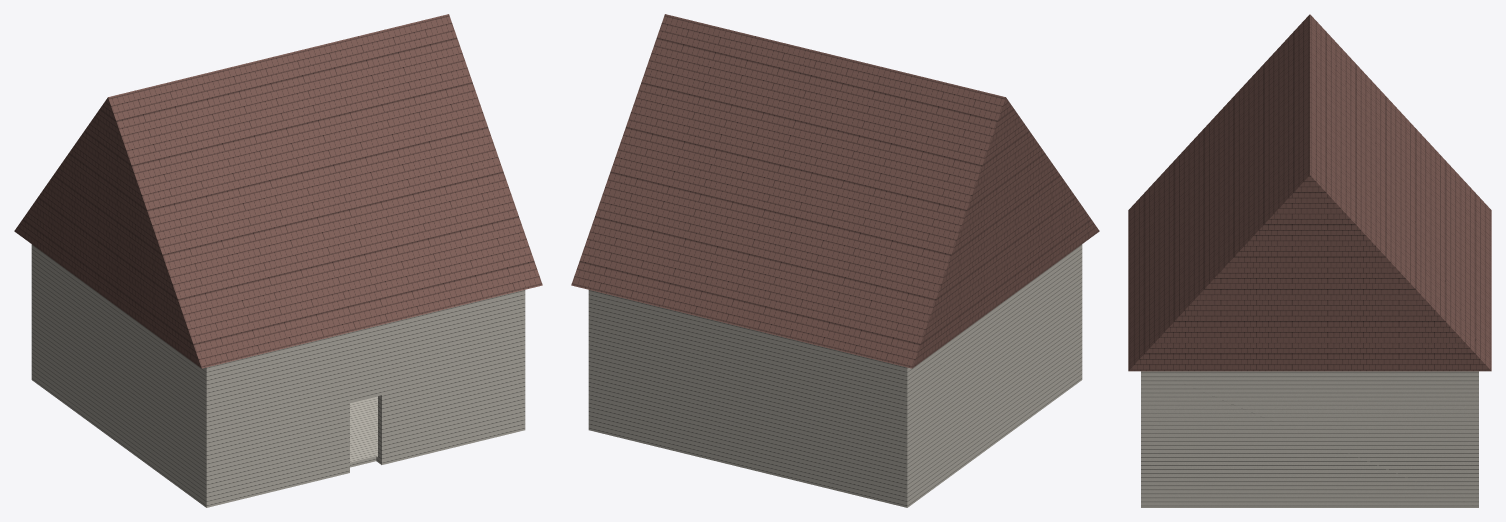
File: tudor_revival_cottage.glb
3 renders of one model, left to right at view 1: azimuth 30°, elevation 25°; view 2: azimuth 150°, elevation 25°; view 3: azimuth 270°, elevation 25°, orthographic. The views are drawn at different scales.
Visible parts, largest first — view 1: tudor_revival_cottage-col; view 2: tudor_revival_cottage-col; view 3: tudor_revival_cottage-col.
Boxes of the visible parts, left/top/right/bottom form: tudor_revival_cottage-col: left=14, top=14, right=542, bottom=507; tudor_revival_cottage-col: left=571, top=14, right=1099, bottom=507; tudor_revival_cottage-col: left=1128, top=14, right=1491, bottom=507.
Bounding box in the file's own units: 10.7 × 10.48 × 10.2.
Materials: 2 (2 with a texture image).
